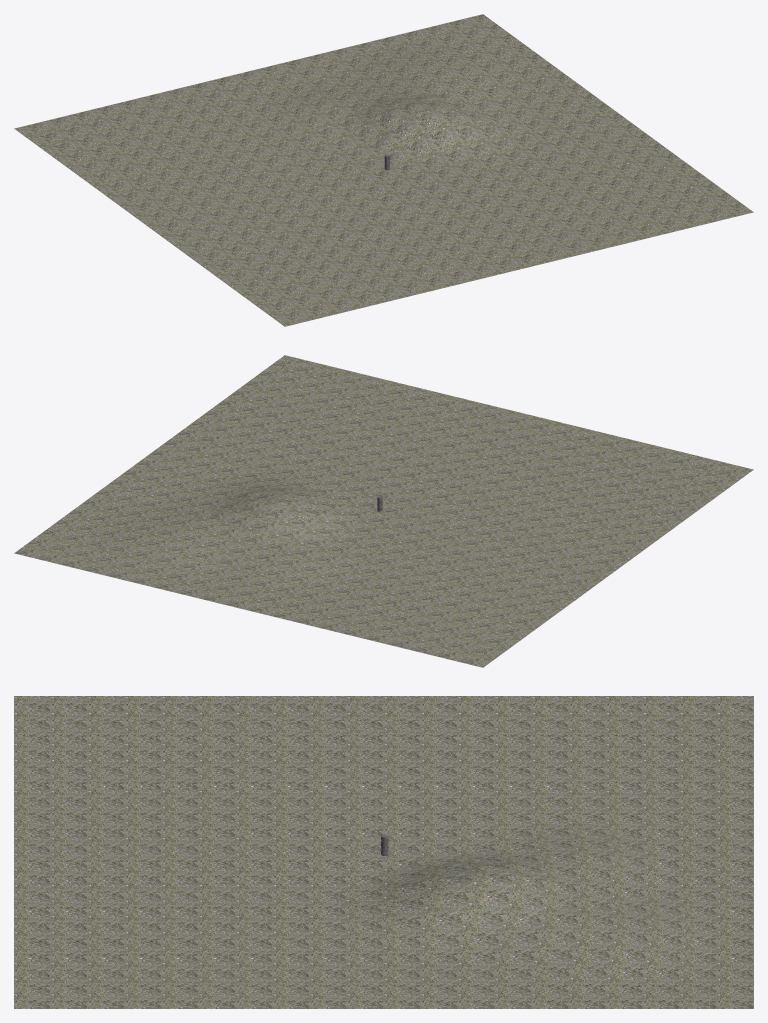
The model's file is map.glb.
The picture shows the model from 3 angles, top to bottom: view 1: azimuth 30°, elevation 25°; view 2: azimuth 150°, elevation 25°; view 3: azimuth 270°, elevation 25°; orthographic projection. The views are drawn at different scales.
Visible parts, largest first — view 1: Plane; view 2: Plane; view 3: Plane.
Part boxes in pixels (box(x1,y1,x2,y2)): Plane: box(14, 14, 753, 326); Plane: box(14, 355, 753, 667); Plane: box(14, 696, 753, 1008).
Size of the model in its own units: 200 by 6.49 by 200.
Materials: 2 (2 with a texture image).
